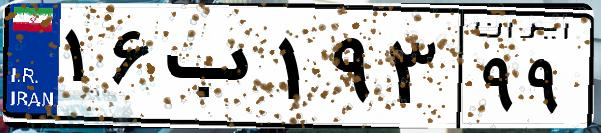1: (270, 28, 330, 110), (57, 26, 110, 100)
3: (385, 28, 445, 110)
6: (110, 28, 158, 98)
9: (330, 28, 385, 110), (475, 38, 525, 113), (525, 38, 570, 115)
ب: (158, 20, 270, 120)
